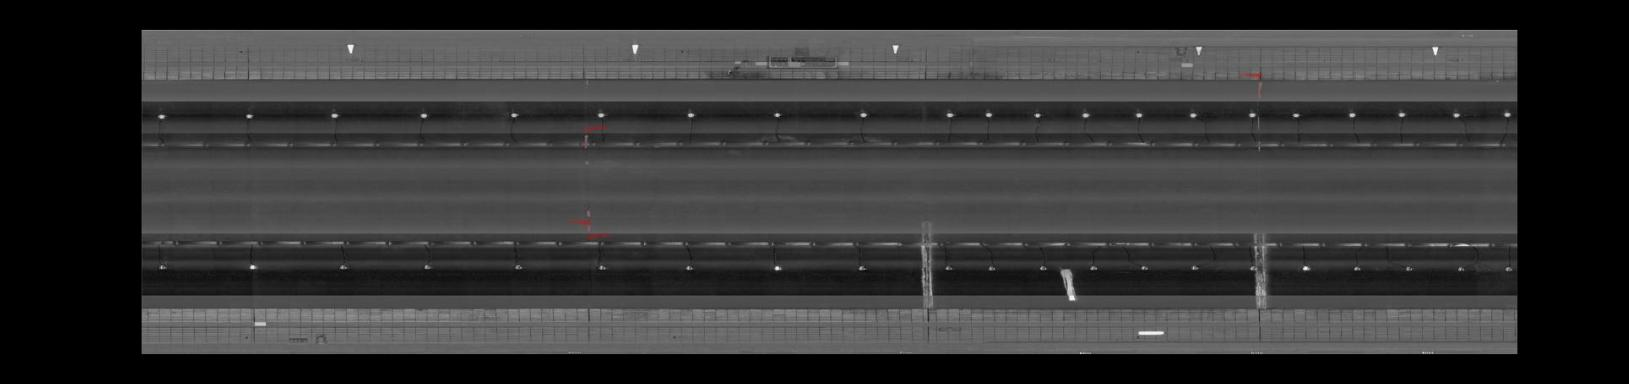light: (851, 109, 873, 121), (767, 260, 786, 273), (769, 108, 786, 121), (509, 260, 528, 273), (592, 109, 611, 121), (154, 260, 171, 273), (335, 260, 352, 273), (682, 109, 699, 121), (419, 260, 436, 272), (415, 110, 432, 121), (680, 262, 698, 273), (1134, 262, 1152, 273), (1500, 262, 1514, 276), (244, 260, 260, 273), (238, 111, 257, 121), (506, 109, 522, 121), (326, 110, 343, 121), (1184, 109, 1201, 120), (852, 263, 870, 273), (1454, 260, 1469, 273), (1448, 108, 1463, 120), (1298, 262, 1313, 273), (1350, 262, 1365, 273), (1344, 109, 1360, 120), (1077, 109, 1093, 120), (153, 111, 169, 121), (1085, 263, 1101, 273), (1393, 109, 1410, 119), (1037, 262, 1051, 273), (1030, 109, 1044, 120), (1499, 109, 1514, 120), (594, 263, 610, 273), (981, 110, 996, 120), (983, 263, 997, 273), (1244, 108, 1258, 118), (942, 109, 958, 118), (941, 263, 955, 273), (1187, 263, 1201, 273), (1245, 263, 1258, 273), (1403, 263, 1416, 273), (1131, 110, 1145, 120), (1290, 110, 1303, 120)
